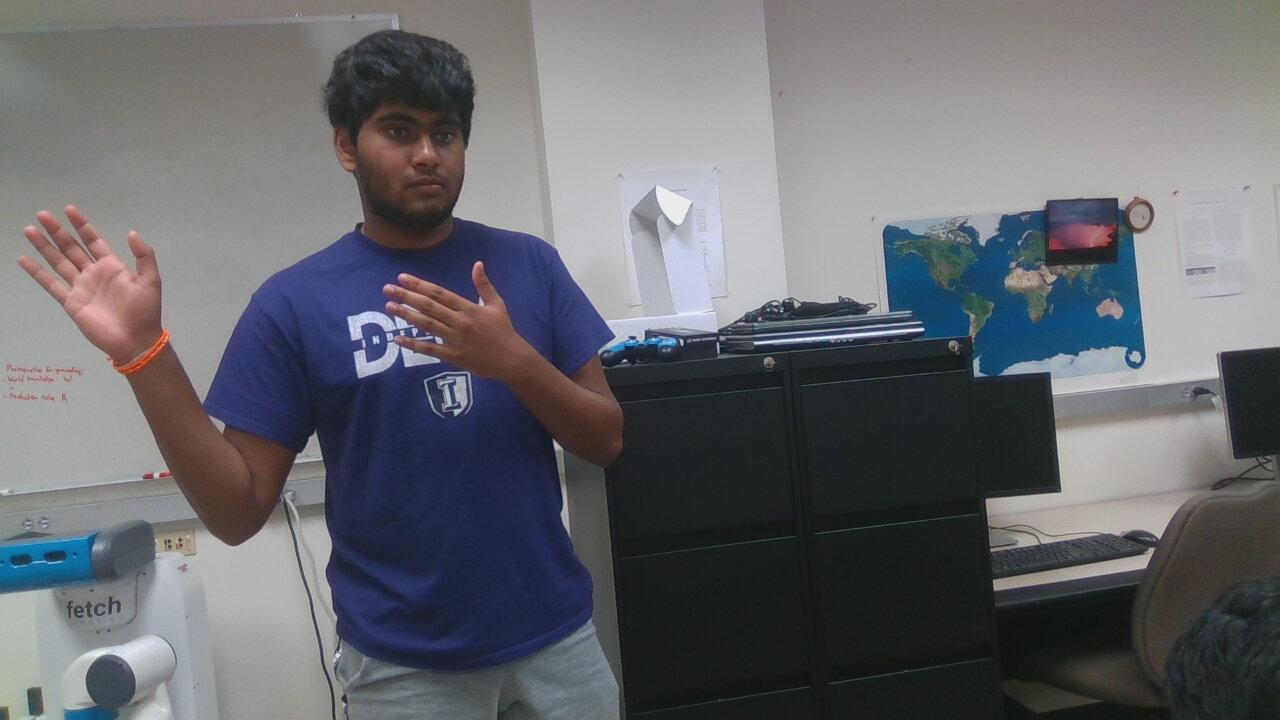hands: (15, 197, 172, 365), (365, 248, 525, 386)
